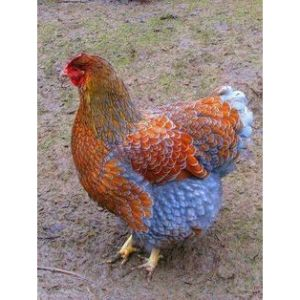hen: (57, 52, 256, 281)
